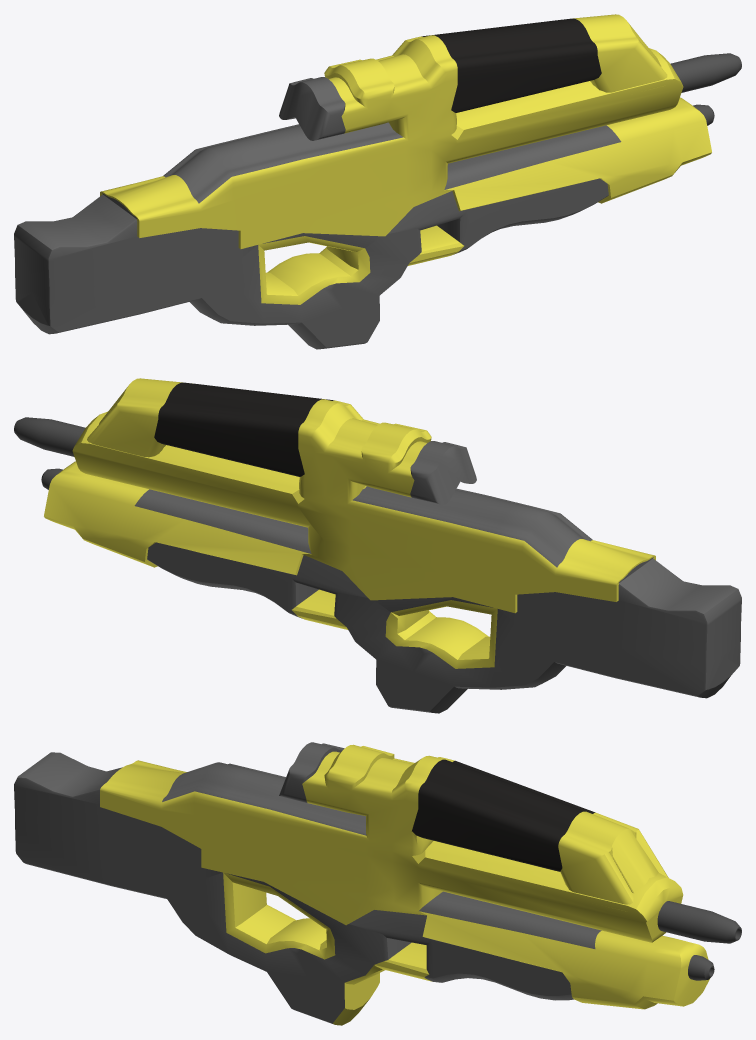
3 renders of one model, top to bottom at view 1: azimuth 30°, elevation 25°; view 2: azimuth 150°, elevation 25°; view 3: azimuth 330°, elevation 25°, orthographic.
Visible parts, largest first — view 1: Cube; view 2: Cube; view 3: Cube.
Part boxes in pixels (x1=…): Cube: x1=14, y1=14, x2=741, y2=349; Cube: x1=14, y1=378, x2=741, y2=713; Cube: x1=14, y1=742, x2=741, y2=1025.
Size of the model in its own units: 480 by 183 by 46.23.
